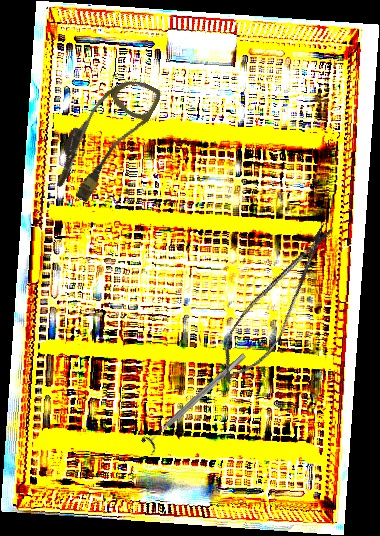Cannula: (45, 62, 164, 211)
Fixation Ring: (139, 347, 252, 455)
Micro Scissor: (204, 210, 347, 397)
